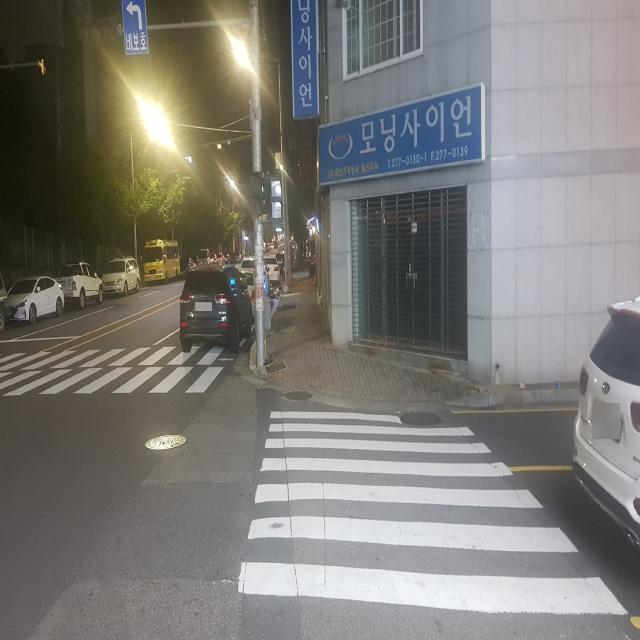횡단보도: (238, 412, 628, 615), (0, 326, 237, 413)
